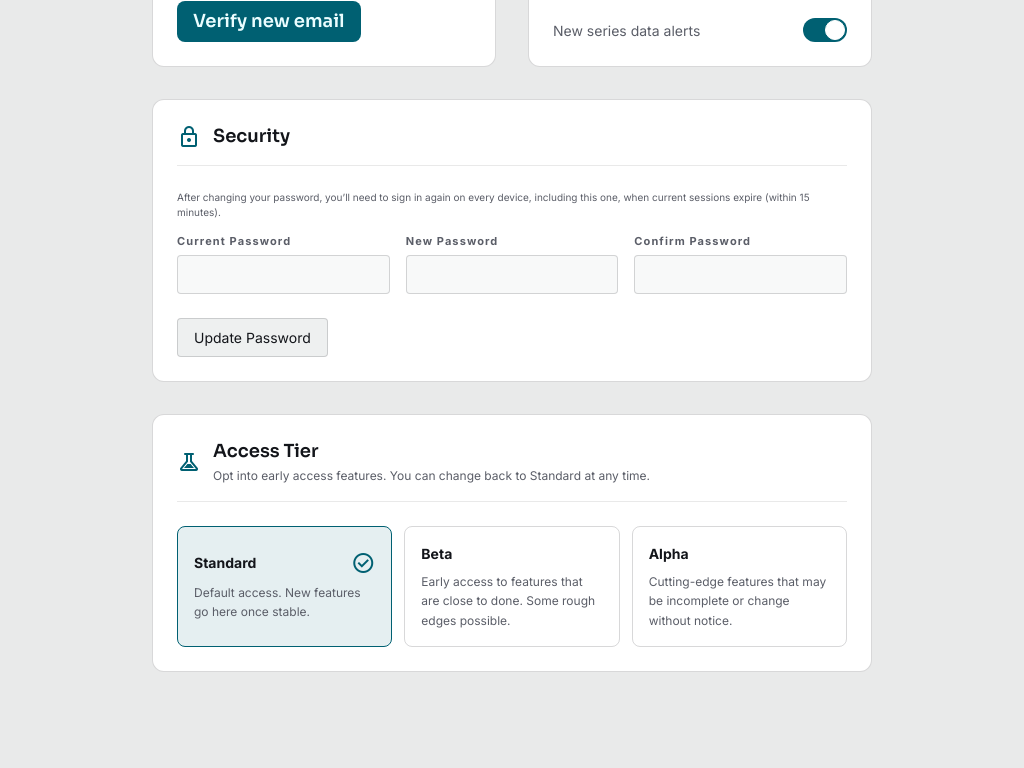
Test: SettingsPage › shows tier error message when updateRole fails
The width and height of the screenshot is (1024, 768).
(page scrolled)
Click the button "Beta": (512, 586) left=404, top=526, right=620, bottom=647
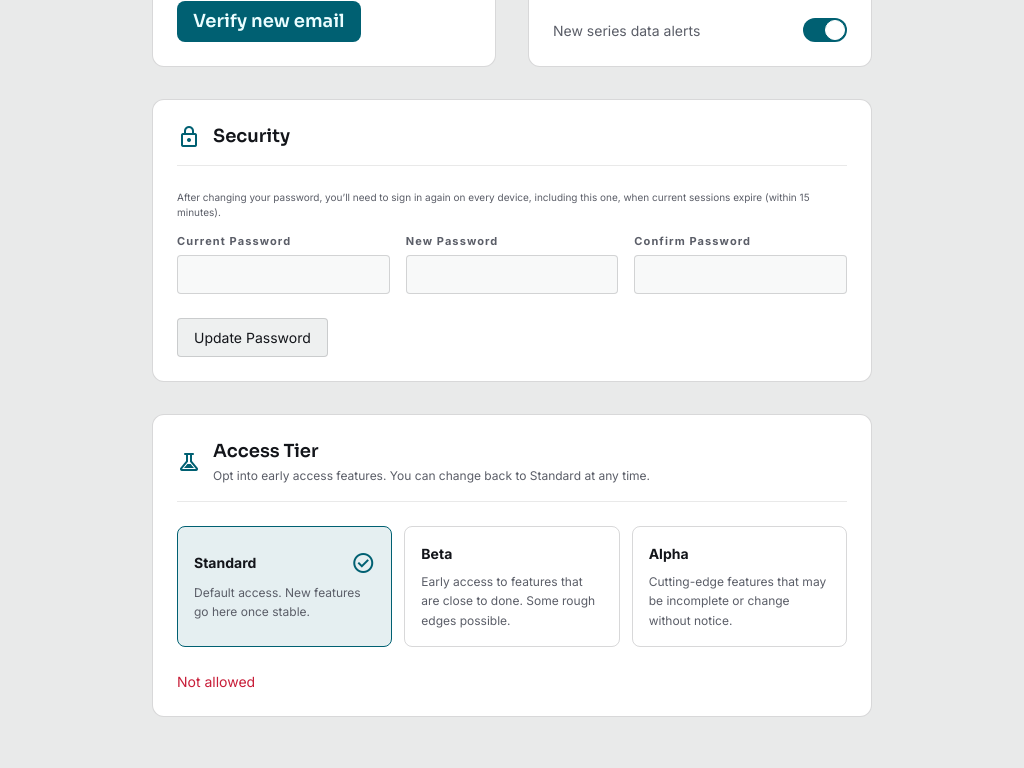
Expected: the text "Not allowed" is shown, left=177, top=673, right=255, bottom=690
